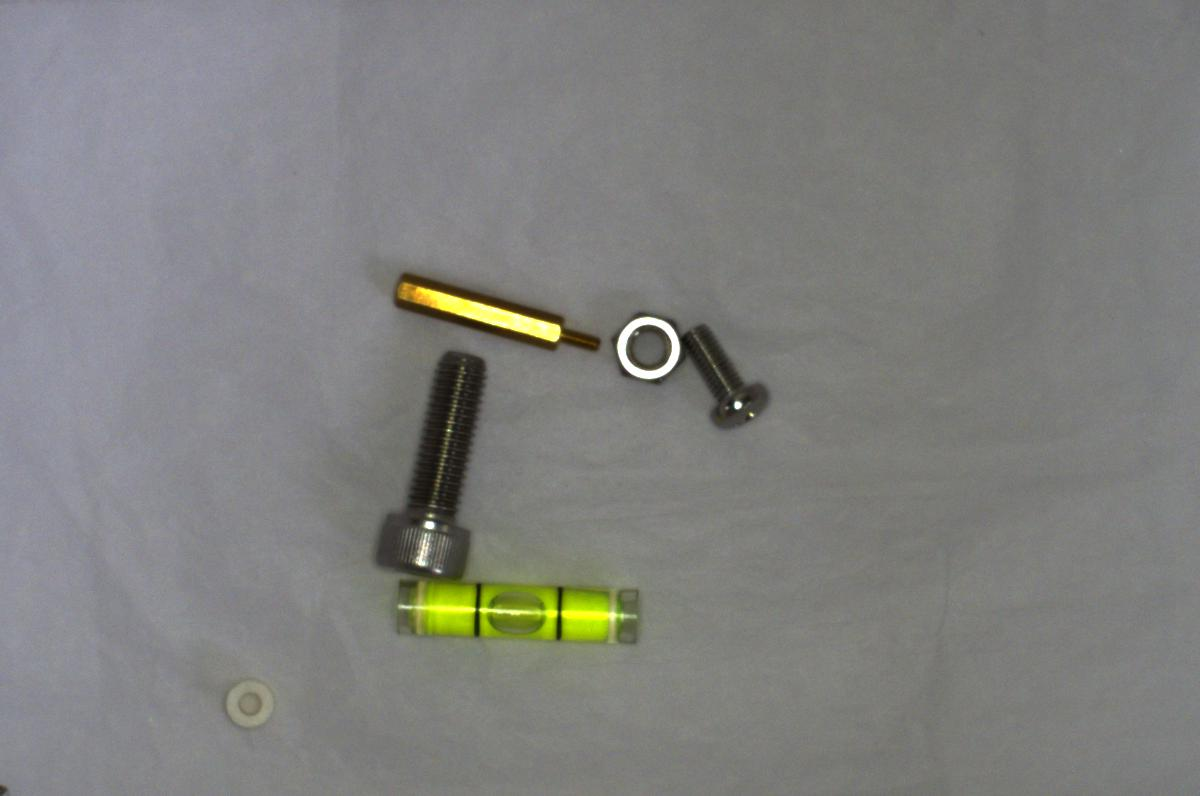Hexagon nut: (605, 306, 686, 392)
Hexagon pillar: (379, 268, 607, 363)
Hexagon screw: (371, 350, 495, 574)
Horizontal bubble: (391, 573, 647, 653)
Plastic cushion pillar: (220, 675, 279, 733)
Round head screw: (679, 316, 777, 434)
